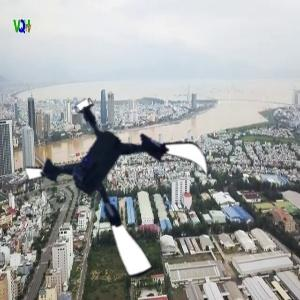drone: (30, 95, 213, 278)
